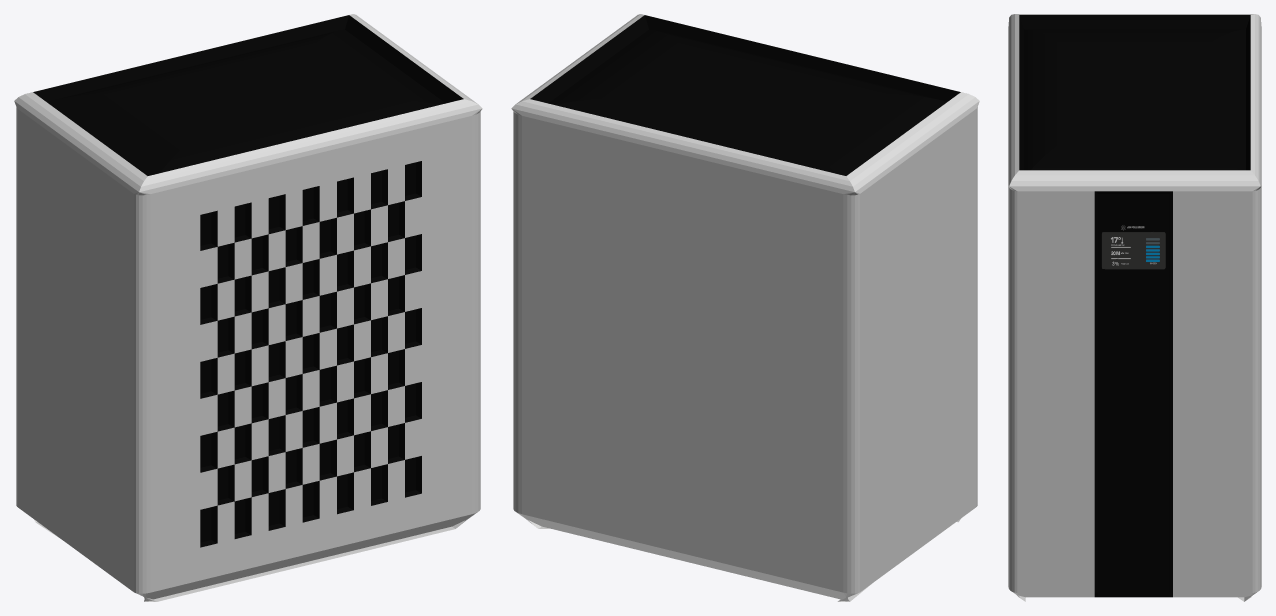
File: luchtreiniger.fbx
The picture shows the model from 3 angles, left to right: view 1: azimuth 30°, elevation 25°; view 2: azimuth 150°, elevation 25°; view 3: azimuth 270°, elevation 25°; orthographic projection.
Parts seen in each view (by area): view 1: Cube; view 2: Cube; view 3: Cube.
Boxes of the visible parts, x1,y1,x2,y2 form: Cube: [14, 14, 482, 601]; Cube: [511, 14, 979, 601]; Cube: [1008, 14, 1261, 601].
Size of the model in its own units: 318 by 376 by 200.
